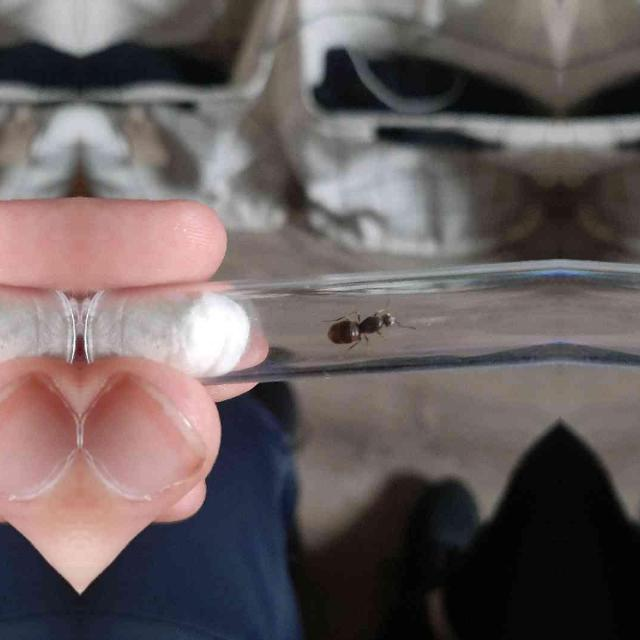Lasius: (321, 302, 397, 350)
